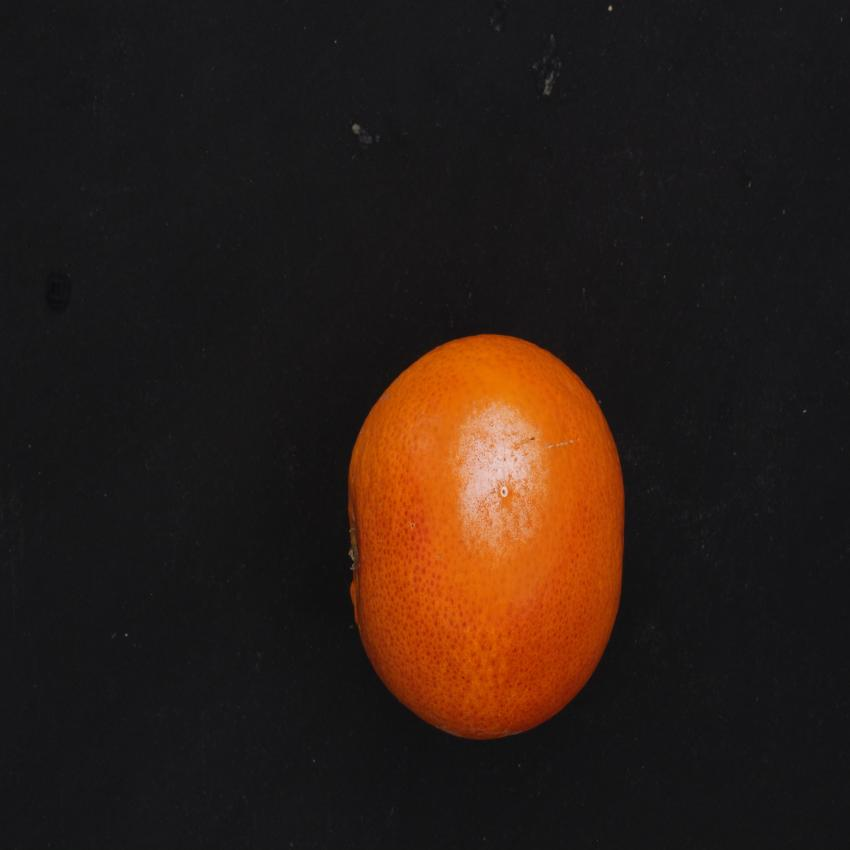Mal estado: (340, 324, 636, 751)
